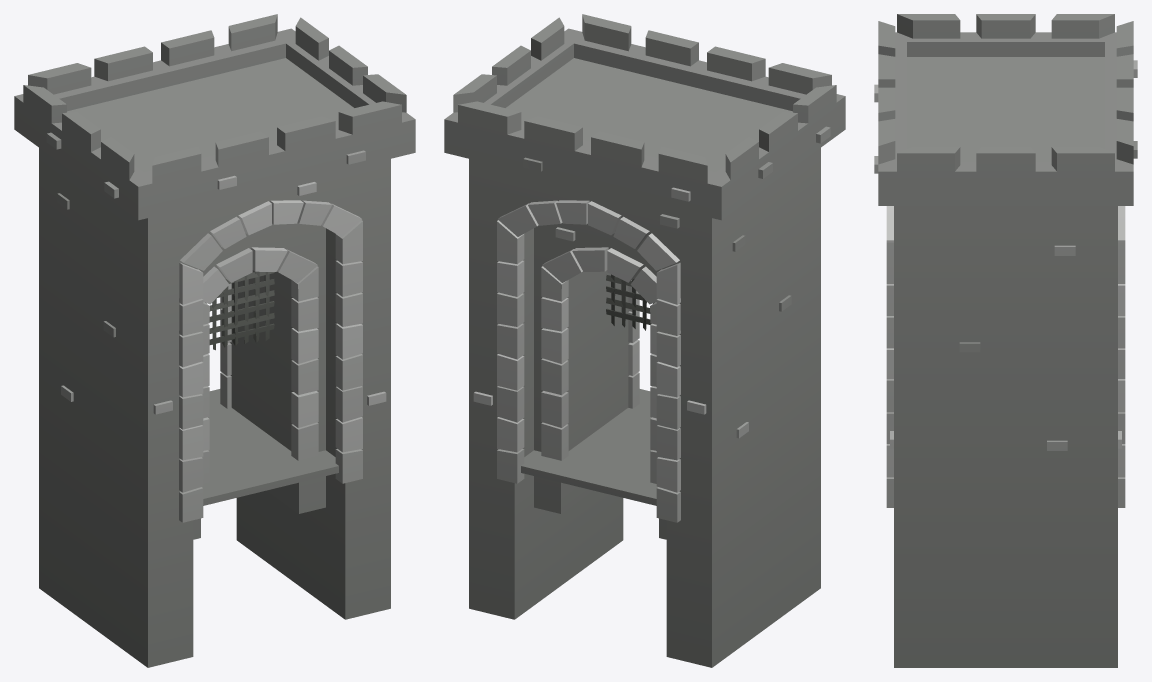
3 views of the same model, side by side, from view 1: azimuth 30°, elevation 25°; view 2: azimuth 150°, elevation 25°; view 3: azimuth 270°, elevation 25° (orthographic). The views are drawn at different scales.
Visible parts, largest first — view 1: Tower1_0; view 2: Tower1_0; view 3: Tower1_0.
Boxes of the visible parts, x1,y1,x2,y2 form: Tower1_0: (14,14,415,667); Tower1_0: (444,14,845,667); Tower1_0: (874,14,1137,667).
Size of the model in its own units: 16.37 by 28.25 by 12.88.
Materials: 1 (1 with a texture image).
